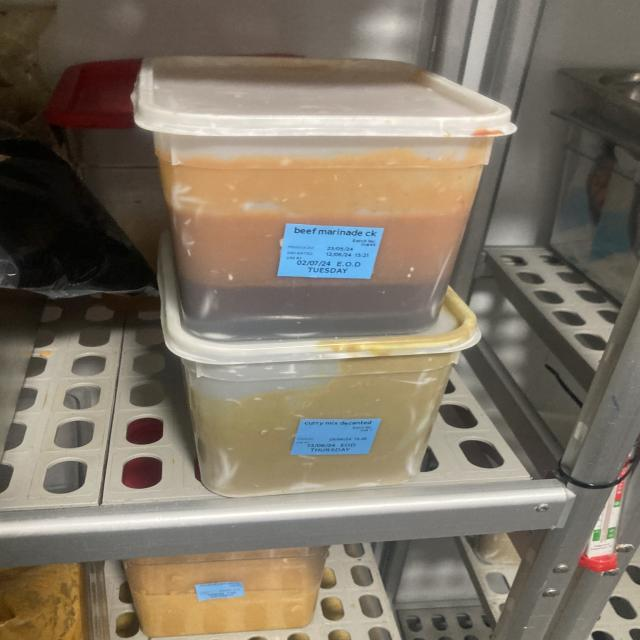product-labels: (277, 223, 384, 282), (292, 418, 381, 455), (195, 580, 244, 601)
